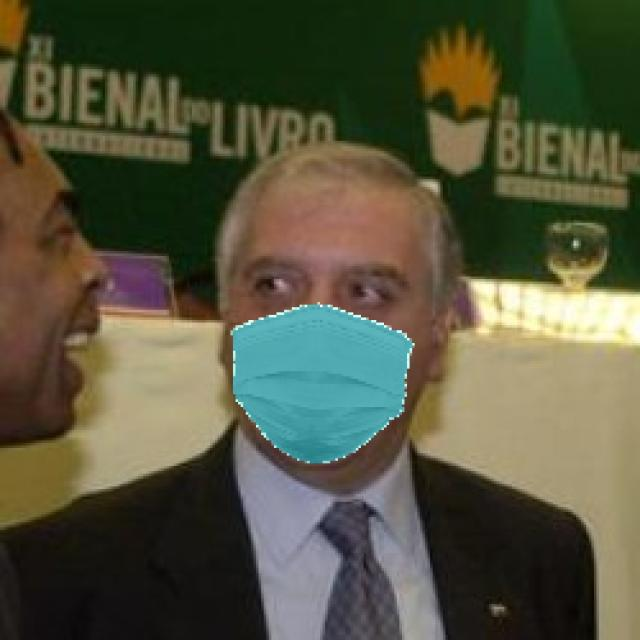mask: (222, 280, 450, 490)
